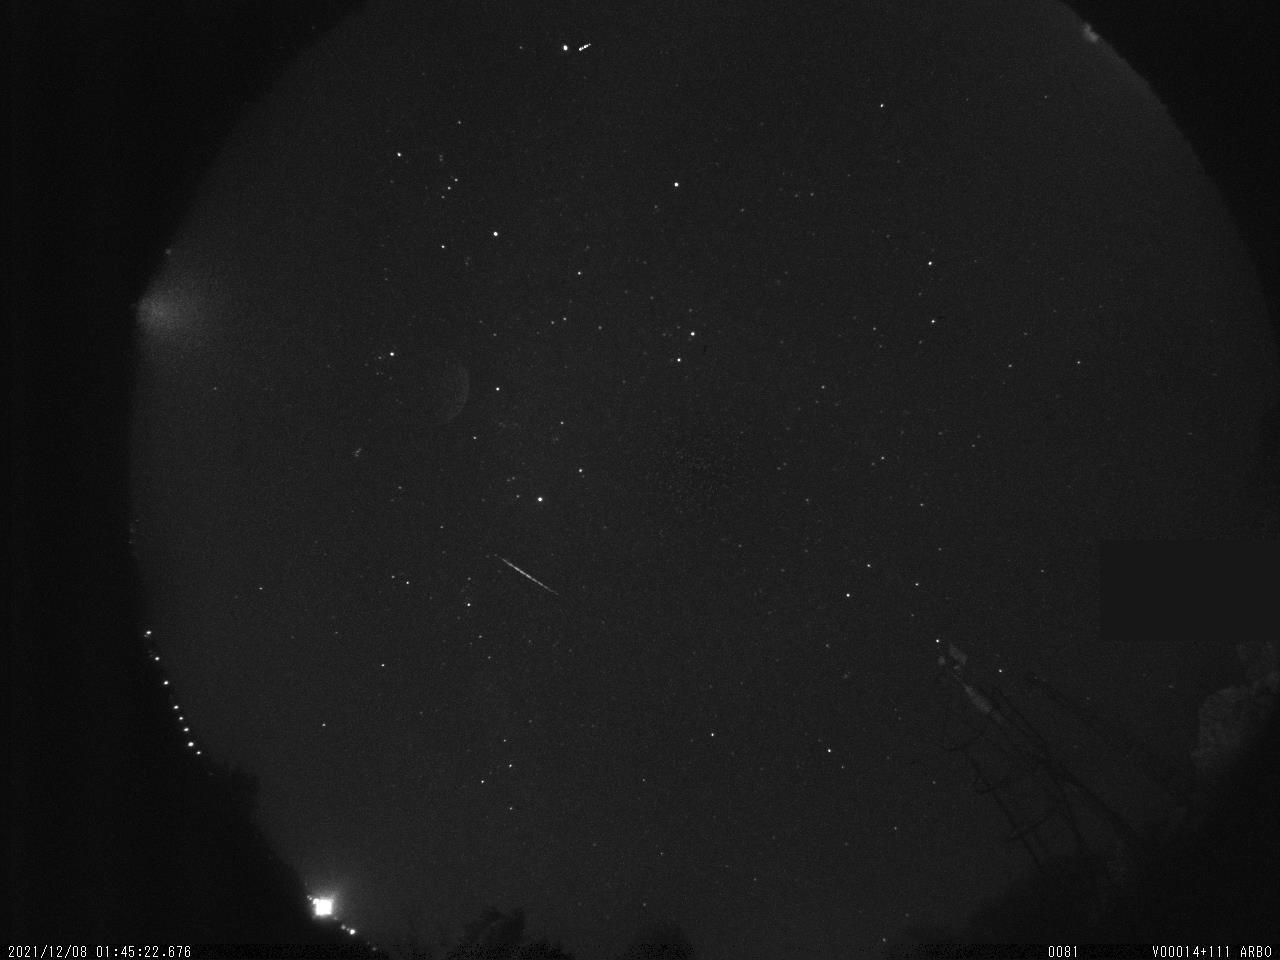meteor: (489, 542, 572, 611)
